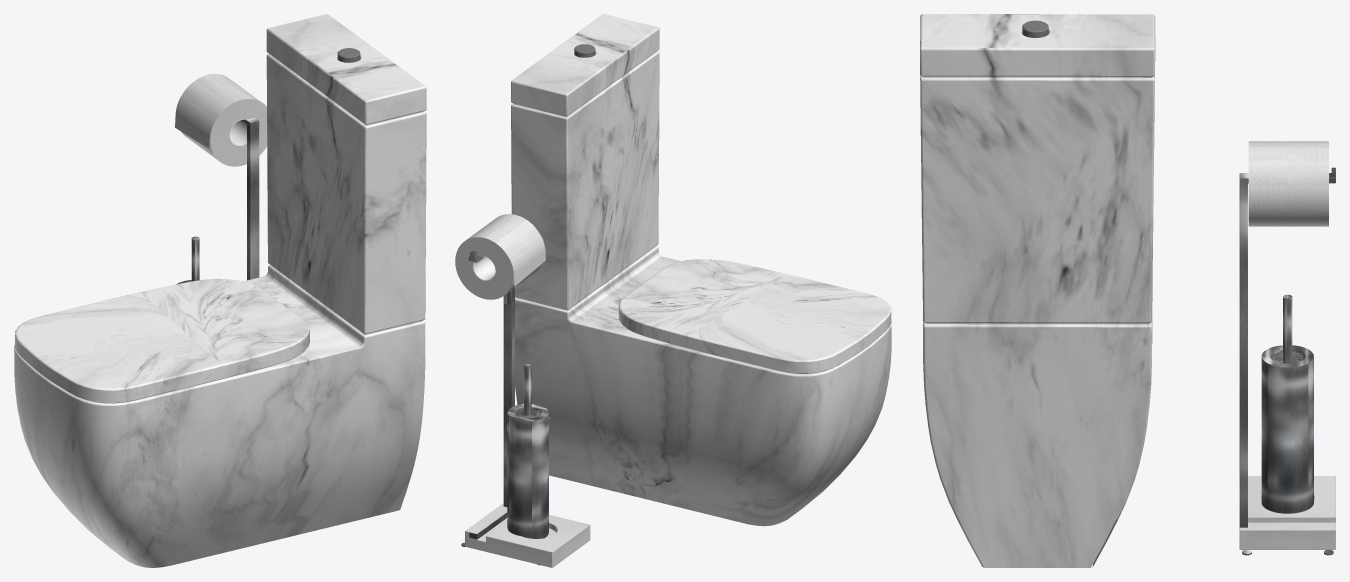
The model's file is Taza.obj.
The picture shows the model from 3 angles, left to right: view 1: azimuth 30°, elevation 25°; view 2: azimuth 150°, elevation 25°; view 3: azimuth 270°, elevation 25°; orthographic projection. The views are drawn at different scales.
Visible parts, largest first — view 1: bano, Wc_plastikas, WC_Popierius, papel; view 2: bano, Wc_plastikas, papel, WC_Popierius, WC_popieriaus_keramika; view 3: bano, papel, WC_Popierius, WC_popieriaus_keramika.
Boxes of the visible parts, x1,y1,x2,y2 form: bano: (14, 14, 426, 567); Wc_plastikas: (15, 119, 309, 403); WC_Popierius: (175, 74, 267, 166); papel: (176, 118, 259, 284); bano: (511, 14, 891, 526); Wc_plastikas: (472, 256, 891, 373); papel: (461, 251, 548, 565); WC_Popierius: (455, 214, 545, 299); WC_popieriaus_keramika: (465, 503, 590, 567); bano: (920, 14, 1155, 567); papel: (1239, 167, 1335, 555); WC_Popierius: (1248, 141, 1328, 226); WC_popieriaus_keramika: (1239, 476, 1335, 549).
Size of the model in its own units: 15.84 by 20.25 by 14.53.
Materials: 5 (3 with a texture image).
